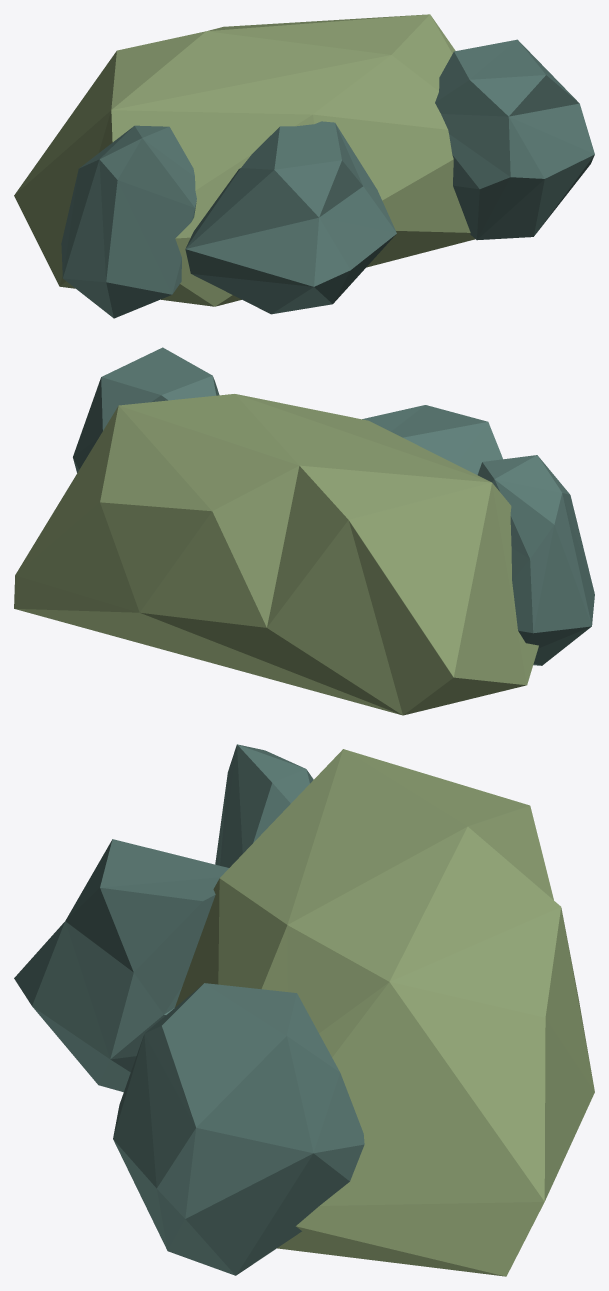
Rendered from 池塘石头3.fbx.
3 renders of one model, top to bottom at view 1: azimuth 30°, elevation 25°; view 2: azimuth 150°, elevation 25°; view 3: azimuth 270°, elevation 25°, orthographic. The views are drawn at different scales.
Visible parts, largest first — view 1: 石头-池塘; view 2: 石头-池塘; view 3: 石头-池塘.
Boxes of the visible parts, x1,y1,x2,y2 form: 石头-池塘: [14, 14, 594, 318]; 石头-池塘: [14, 347, 594, 715]; 石头-池塘: [14, 744, 594, 1276].
Size of the model in its own units: 104 by 39.9 by 73.08.
